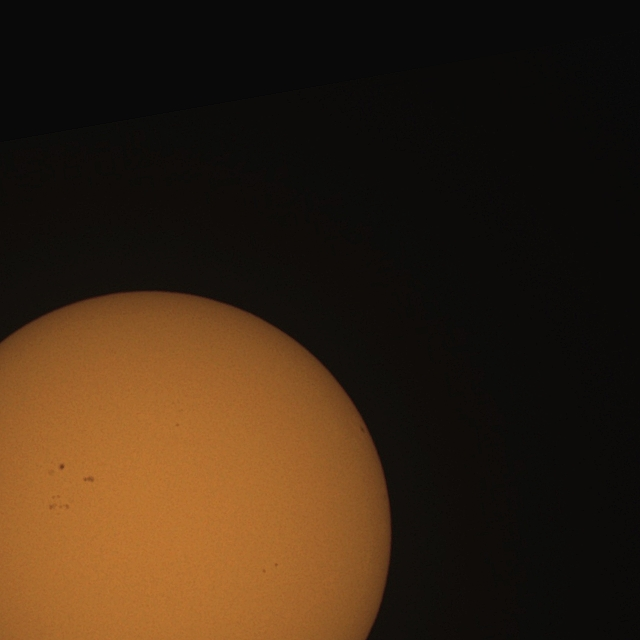sunspot: (39, 460, 65, 476), (48, 494, 70, 512), (83, 475, 96, 484), (58, 462, 66, 471), (359, 426, 366, 434), (261, 568, 266, 574), (175, 422, 180, 428), (274, 562, 279, 568)
